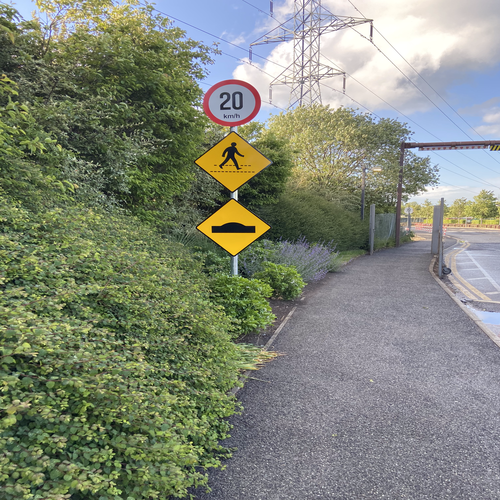Bump Ahead: (198, 200, 271, 253)
Pedestrian: (191, 130, 272, 190)
Speed Limit: (200, 77, 266, 128)
